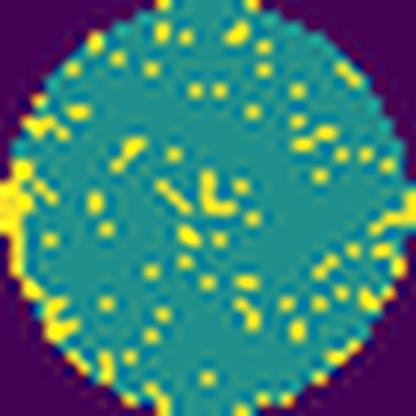Edge-Loc: (0, 161, 82, 345), (364, 189, 416, 236)
